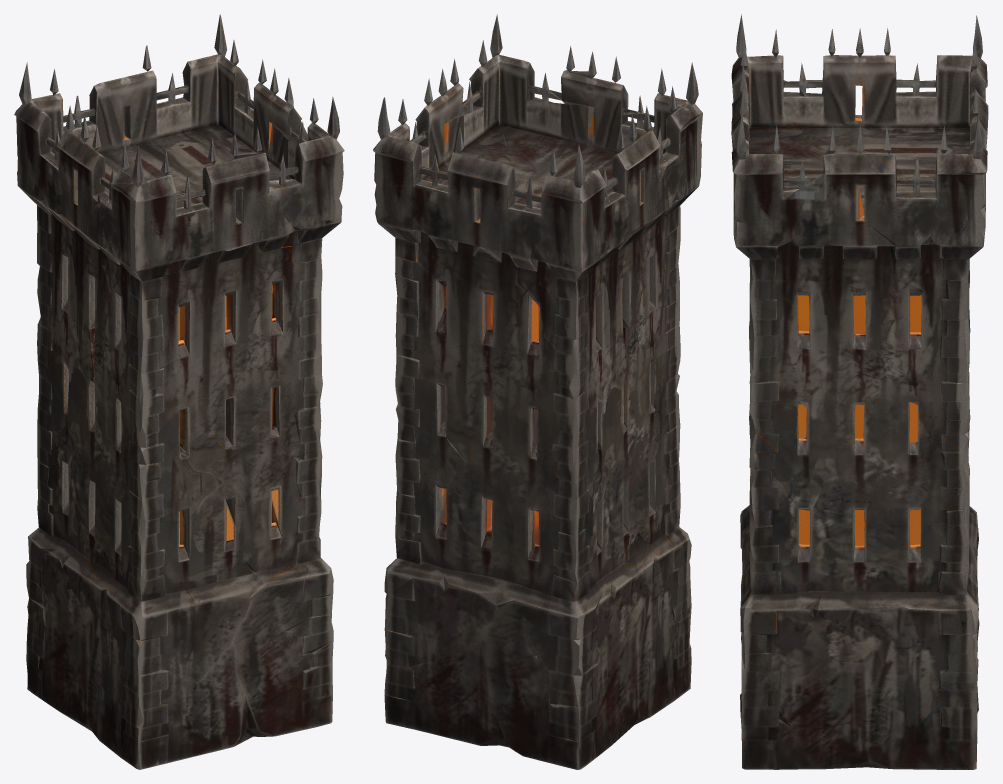
The model's file is prop-fortress-tower.glb.
3 views of the same model, side by side, from view 1: azimuth 30°, elevation 25°; view 2: azimuth 150°, elevation 25°; view 3: azimuth 270°, elevation 25° (orthographic). The views are drawn at different scales.
Size of the model in its own units: 0.6755 by 1.9 by 0.6748.
1 material, 1 textured.
